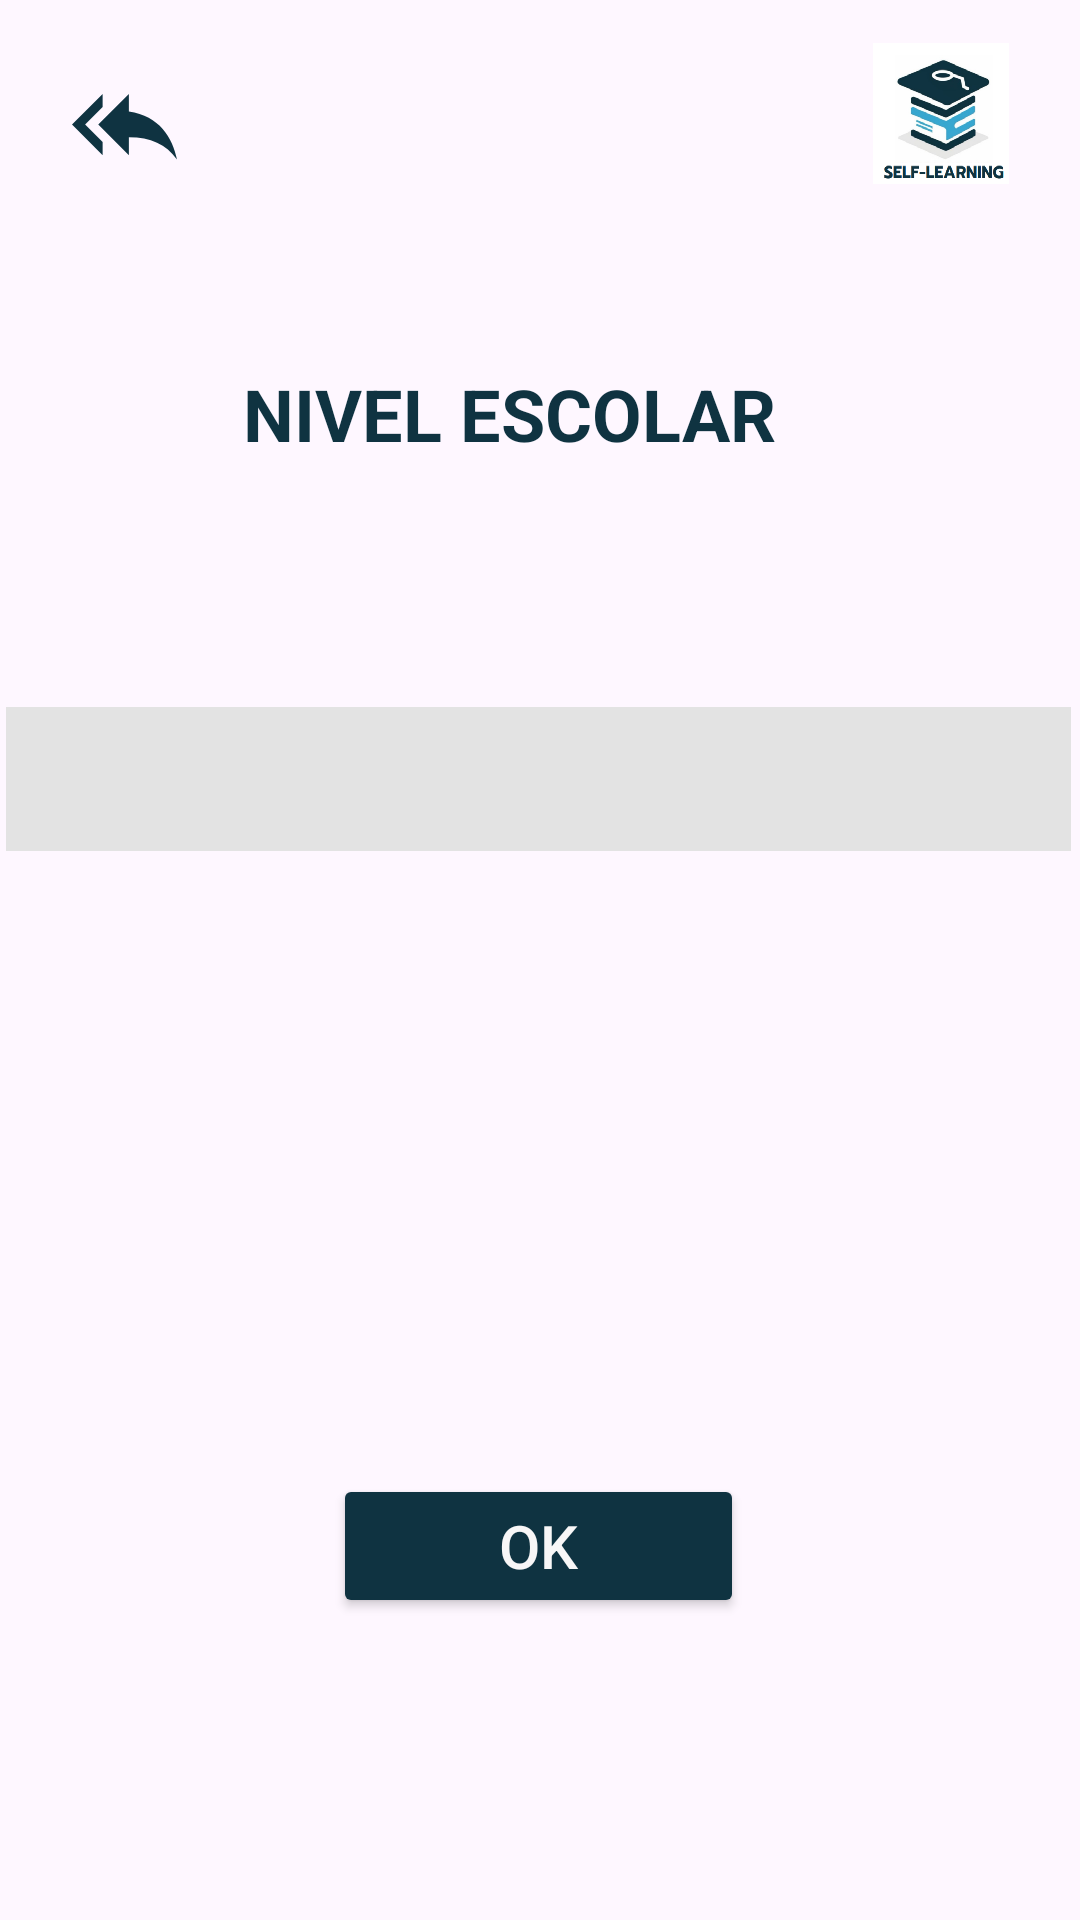

Where icons sit on this 1080 x 1920 app screen, as bbox=[x1, y1, x2, y2]:
backimage: bbox=[72, 94, 177, 159]
